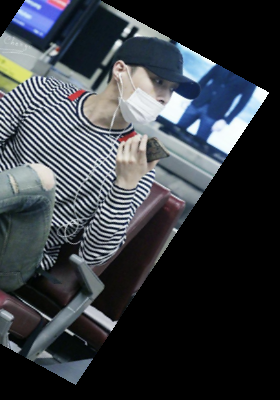mask_weared_incorrect: (93, 27, 223, 151)
